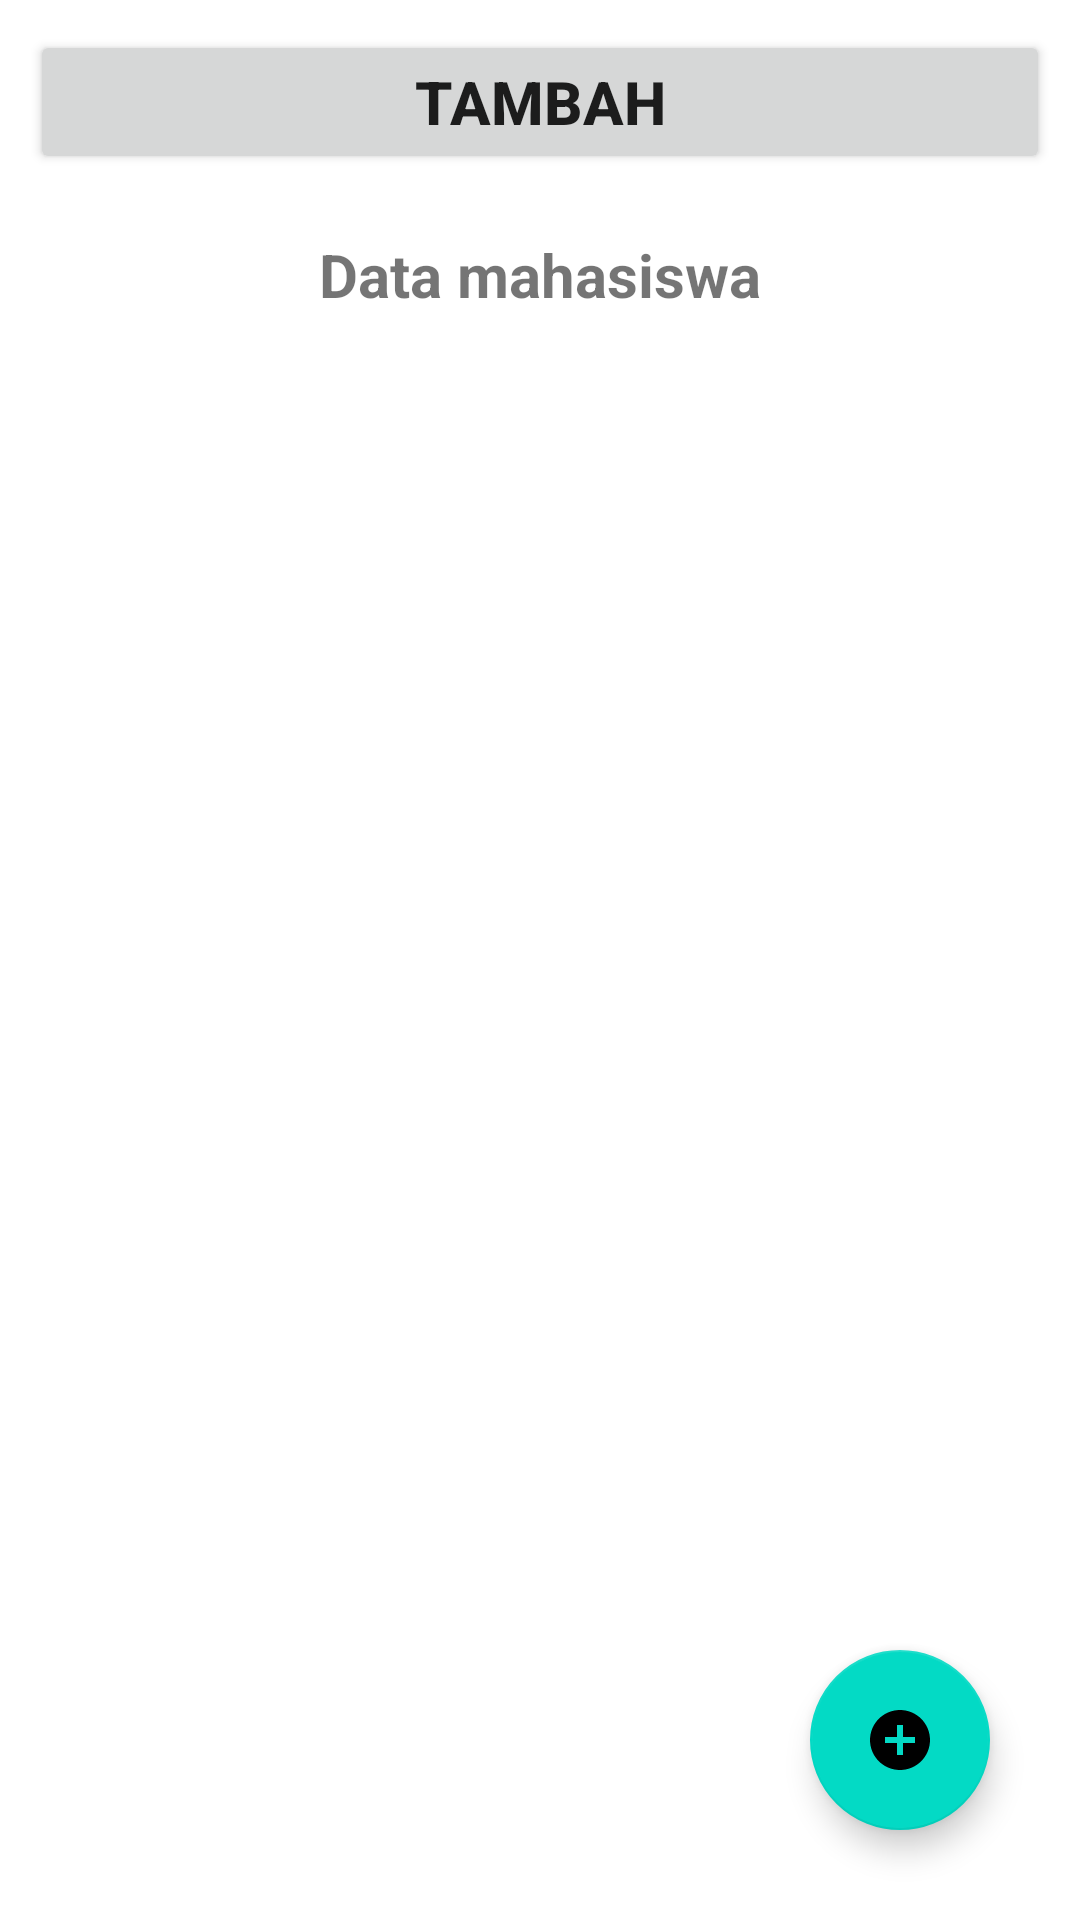

Locate icon controls on the screen. Image size 1080 × 1920, boxes as [x1,y1,x2,y2].
fab: [810,1650,990,1830]
